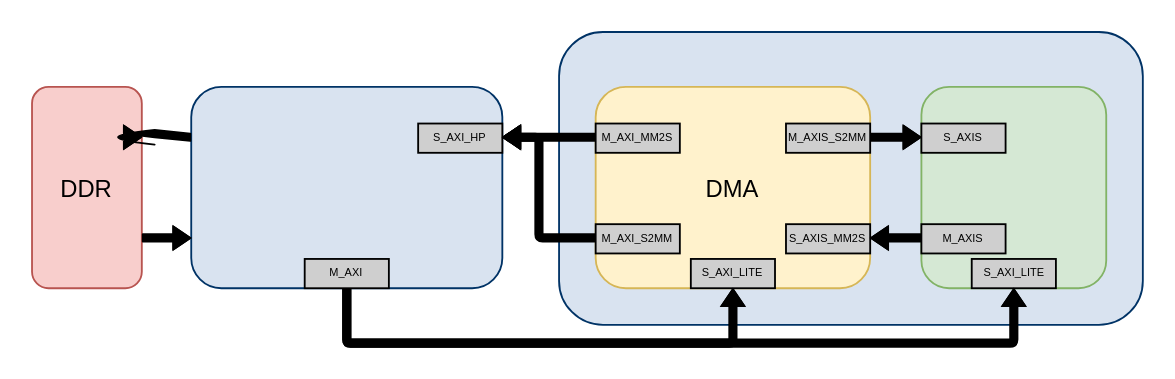
The diagram is 1175 pixels wide and 379 high, and some of its shapes have lost their labels. The box of each missing label's shape, as (x1, y1, x2, y2) in pixels:
Accelerator: (920, 85, 1106, 288)
Processing Logic (PL): (557, 30, 1143, 325)
Processing System (PS): (189, 85, 502, 288)
